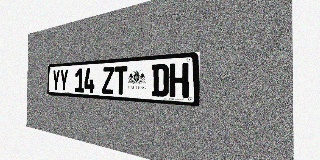1: (75, 68, 84, 93)
4: (84, 68, 95, 93)
D: (152, 64, 169, 97)
H: (169, 63, 189, 98)
T: (114, 66, 127, 95)
Y: (60, 69, 68, 92), (52, 70, 60, 91)
Z: (102, 67, 114, 94)
